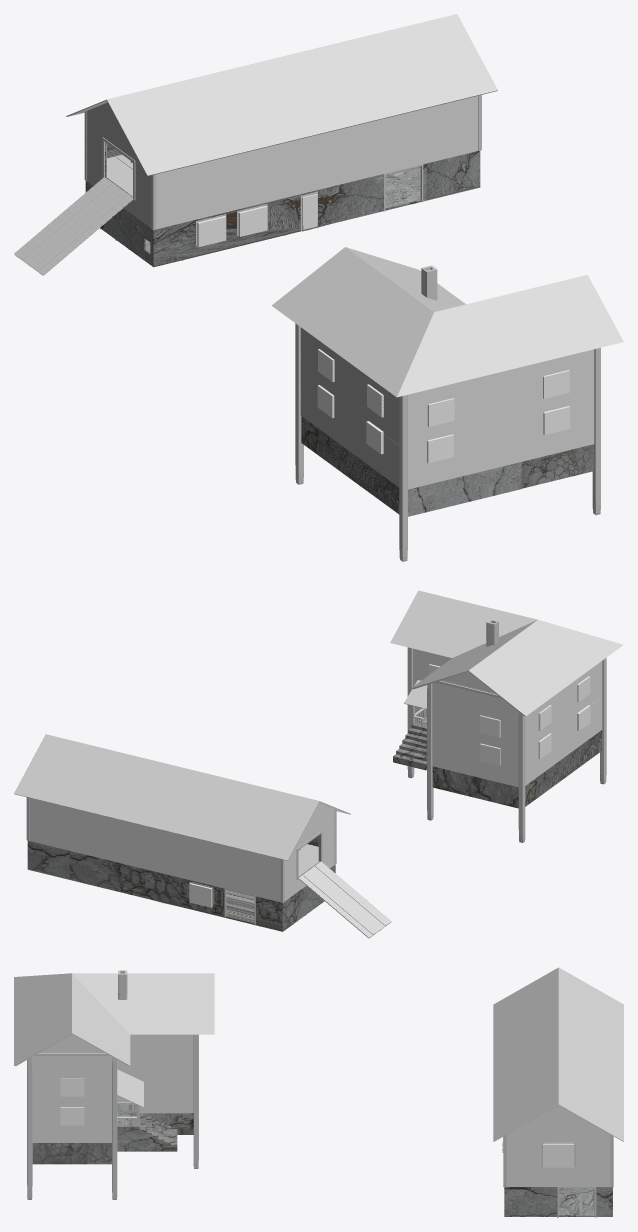
Rendered from navetta_talo.fbx.
The picture shows the model from 3 angles, top to bottom: view 1: azimuth 30°, elevation 25°; view 2: azimuth 150°, elevation 25°; view 3: azimuth 270°, elevation 25°; orthographic projection. The views are drawn at different scales.
Parts seen in each view (by area): view 1: katto2, Cube.025, Sivulaudat, Sivulaudat.002, ulkoseinät, sisäseinäkehikko.001, Sivulaudat.004, Ramppi, Päätylaudat, Lankku.005, Lankku.004, Lankku.006 (+4 smaller); view 2: katto1, Cube.025, Sivulaudat.001, ulkoseinät, Sivulaudat.007, Sivulaudat.004, sisäseinäkehikko.001, Ramppi, Päätylaudat, ulkoportaat, Lankku.006, Lankku.007 (+5 smaller); view 3: Cube.025, katto1, katto2, Päätylaudat2, Sivulaudat.009, Sivulaudat.005, ulkoseinät, sisäseinäkehikko.001, ulkoportaat, Lankku.004, Lankku.003, Lankku.007 (+6 smaller).
Part boxes in pixels (left/top/right/bottom): katto2: left=107, top=14, right=497, bottom=176; Cube.025: left=271, top=247, right=623, bottom=397; Sivulaudat: left=156, top=96, right=478, bottom=229; Sivulaudat.002: left=408, top=349, right=594, bottom=489; ulkoseinät: left=85, top=142, right=480, bottom=267; sisäseinäkehikko.001: left=301, top=416, right=594, bottom=516; Sivulaudat.004: left=300, top=327, right=399, bottom=487; Ramppi: left=14, top=177, right=133, bottom=275; Päätylaudat: left=87, top=102, right=151, bottom=227; Lankku.005: left=399, top=395, right=407, bottom=561; Lankku.004: left=592, top=347, right=600, bottom=515; Lankku.006: left=295, top=323, right=303, bottom=484; katto1: left=14, top=734, right=319, bottom=860; Cube.025: left=390, top=590, right=623, bottom=716; Sivulaudat.001: left=29, top=798, right=280, bottom=902; ulkoseinät: left=27, top=834, right=335, bottom=931; Sivulaudat.007: left=432, top=680, right=518, bottom=787; Sivulaudat.004: left=525, top=661, right=602, bottom=785; sisäseinäkehikko.001: left=432, top=730, right=601, bottom=808; Ramppi: left=298, top=861, right=391, bottom=938; Päätylaudat: left=284, top=803, right=334, bottom=901; ulkoportaat: left=393, top=716, right=426, bottom=770; Lankku.006: left=518, top=713, right=525, bottom=842; Lankku.007: left=427, top=683, right=433, bottom=820; Cube.025: left=14, top=973, right=214, bottom=1066; katto1: left=558, top=967, right=623, bottom=1141; katto2: left=493, top=967, right=558, bottom=1141; Päätylaudat2: left=507, top=1105, right=610, bottom=1186; Sivulaudat.009: left=32, top=1056, right=112, bottom=1142; Sivulaudat.005: left=117, top=1034, right=193, bottom=1113; ulkoseinät: left=504, top=1187, right=612, bottom=1216; sisäseinäkehikko.001: left=32, top=1113, right=193, bottom=1164; ulkoportaat: left=117, top=1104, right=177, bottom=1151; Lankku.004: left=27, top=1057, right=32, bottom=1199; Lankku.003: left=112, top=1057, right=117, bottom=1199; Lankku.007: left=193, top=1034, right=198, bottom=1168.
Size of the model in its own units: 2923 by 1501 by 4492.
